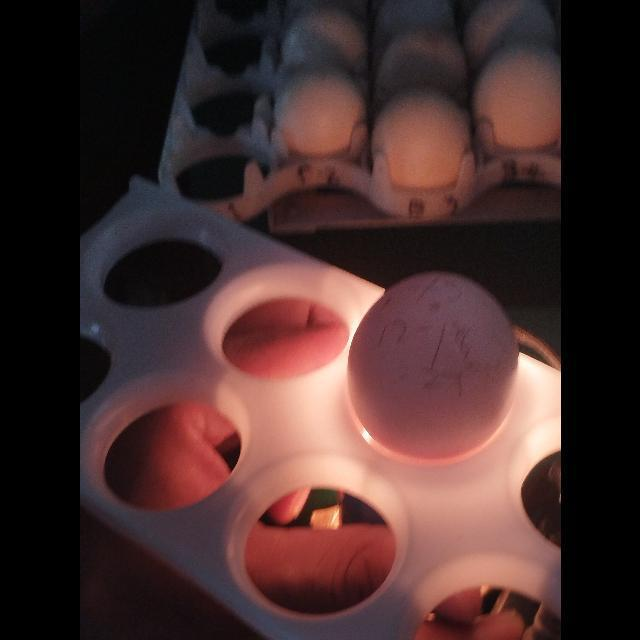A - Good: (340, 269, 522, 470)
